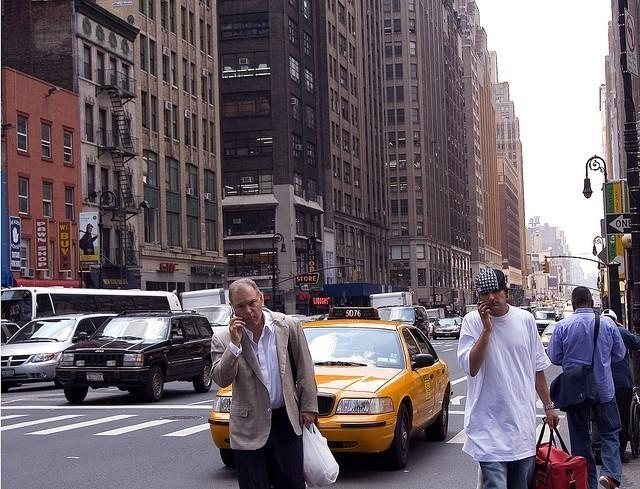bus: (0, 286, 182, 334)
car: (211, 321, 451, 454), (56, 308, 214, 404), (2, 314, 112, 392), (380, 304, 430, 341), (306, 305, 386, 324), (432, 316, 463, 340), (534, 310, 556, 334), (0, 322, 22, 343), (540, 323, 556, 350), (299, 314, 325, 323), (555, 312, 566, 321)
truck: (324, 282, 414, 320), (182, 288, 232, 332), (369, 291, 414, 308), (426, 308, 445, 325), (466, 305, 478, 314)
